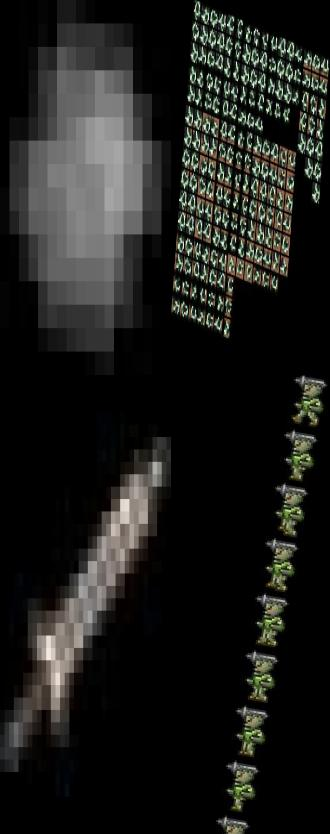gel: (0, 0, 171, 375)
sword: (0, 375, 171, 834)
tungsten: (192, 0, 202, 23)
zombie: (287, 375, 330, 431)
